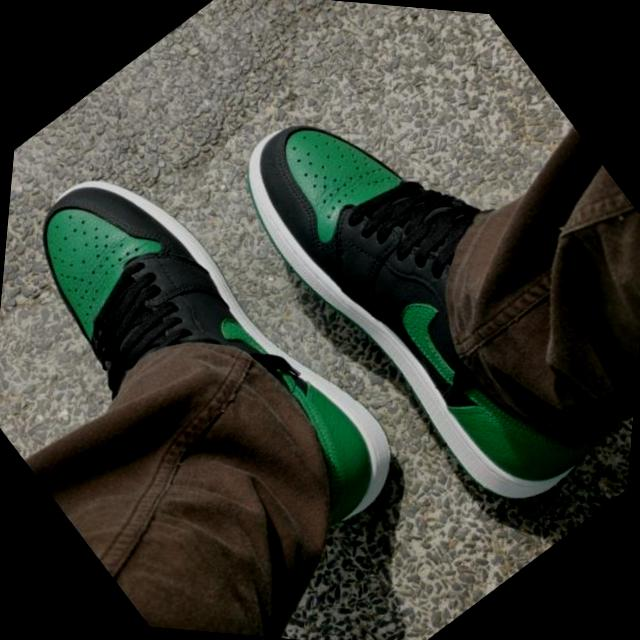nike_original_jordan: (187, 41, 640, 550), (0, 112, 447, 602)
